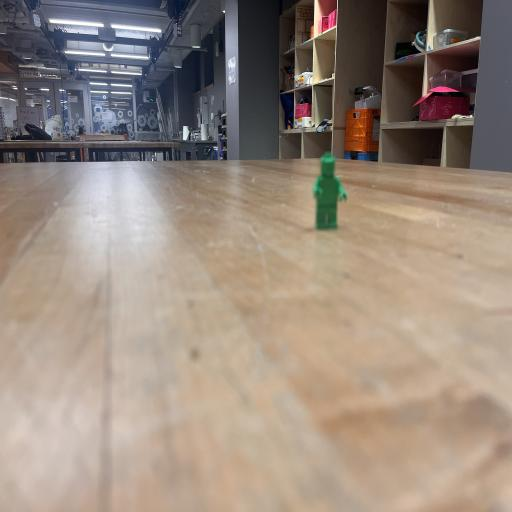Lego-Minifig: (313, 153, 347, 229)
